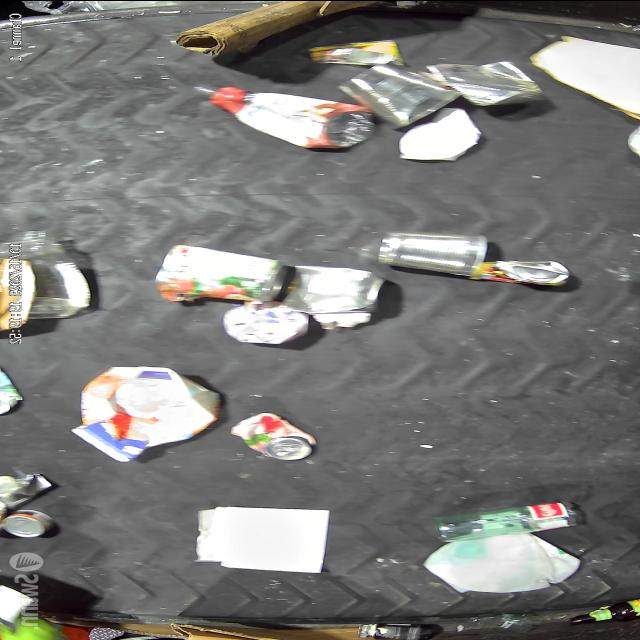can: (338, 61, 468, 128), (150, 242, 286, 306), (424, 59, 549, 108), (374, 228, 494, 278), (276, 264, 389, 314), (230, 409, 320, 461), (472, 258, 572, 288), (1, 507, 54, 538)
plastic_bottle: (0, 228, 93, 320)
